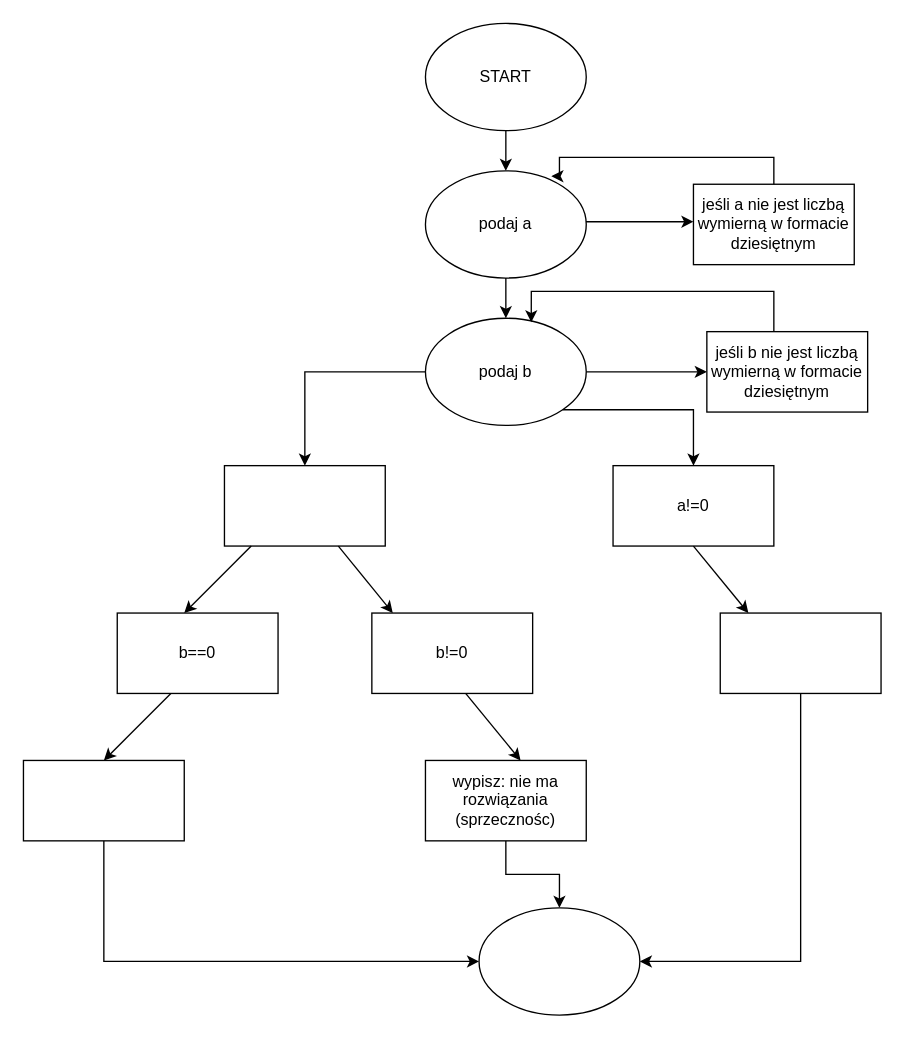
Image size: 905x1039. Some labels were removed from this diagram. The box of each missing label's shape, as (x1, y1, x2, y2) in pixels:
a==0: (223, 464, 385, 546)
oblicz: x=-b/a: (719, 612, 881, 693)
STOP: (478, 907, 640, 1015)
wypisz: nieskończenie wiele rozwiązań: (22, 759, 184, 841)
